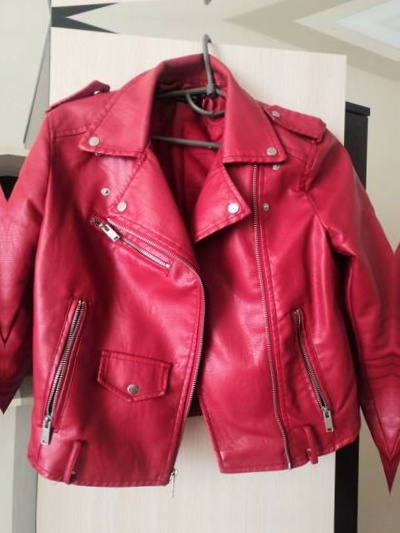Blazer: (2, 59, 398, 484), (0, 53, 9, 477), (391, 66, 400, 490)
